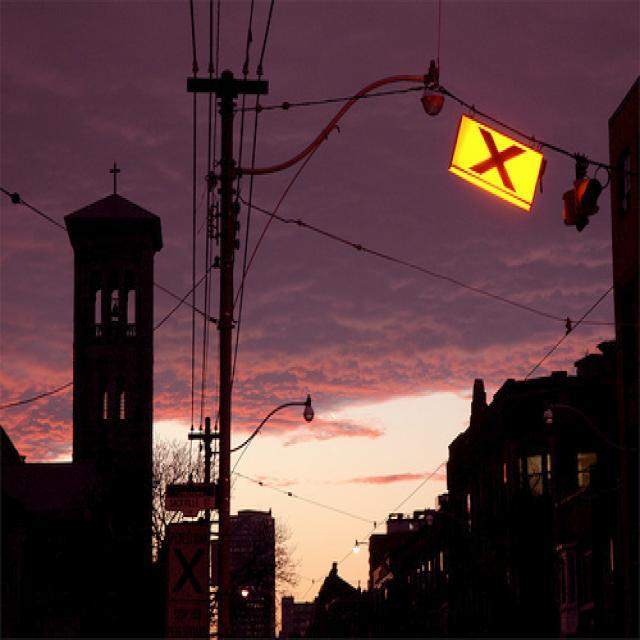crossarm: (188, 75, 268, 93)
pole: (214, 70, 236, 518)
wire: (239, 192, 611, 327), (3, 182, 215, 326), (245, 96, 373, 278), (239, 72, 430, 174), (230, 2, 277, 395), (394, 83, 607, 169), (199, 1, 215, 432), (238, 82, 426, 118), (187, 1, 199, 435), (235, 0, 255, 257), (154, 259, 216, 335), (1, 379, 72, 410)
